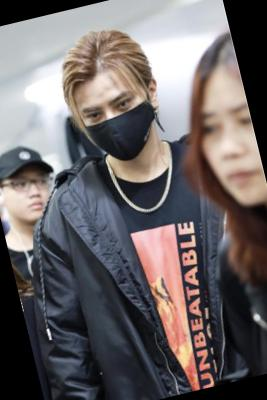with_mask: (77, 83, 164, 165)
without_mask: (192, 99, 267, 214)
